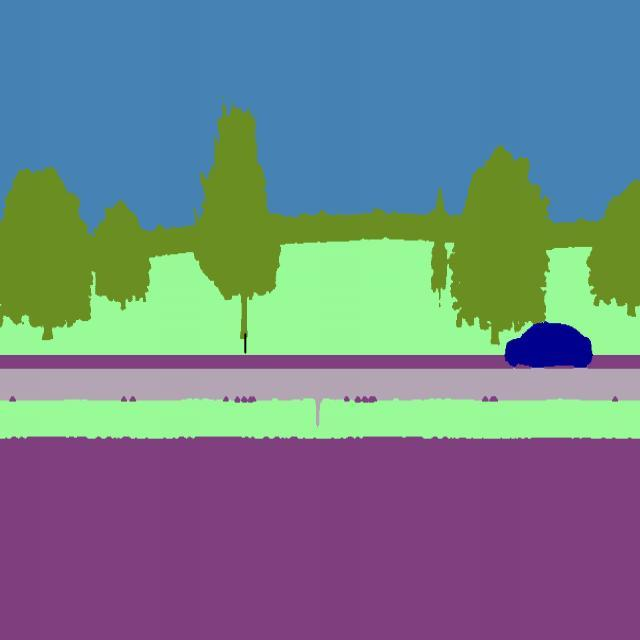safe: (504, 320, 598, 370)
